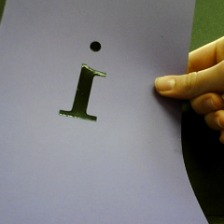violet1: (56, 36, 111, 127)
